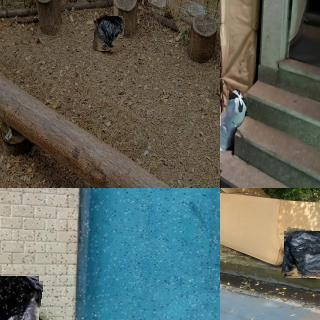Garbage: (282, 229, 320, 280), (0, 273, 41, 320), (220, 90, 247, 154), (93, 15, 124, 52)
